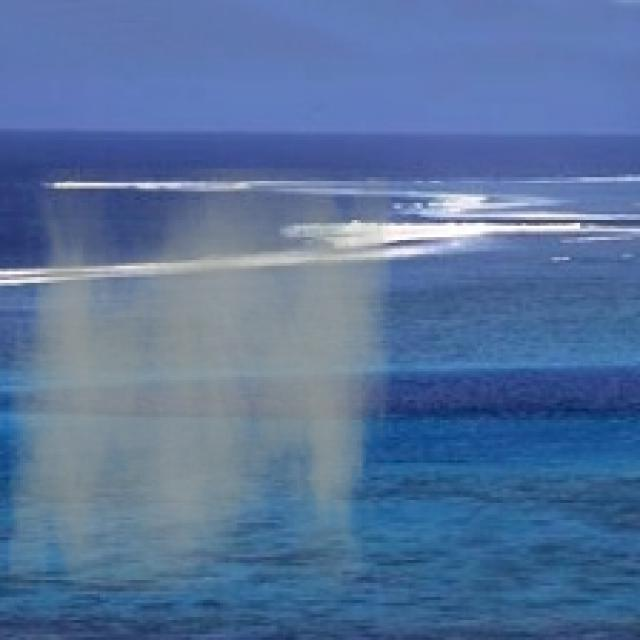Smoke: (9, 168, 392, 594)
